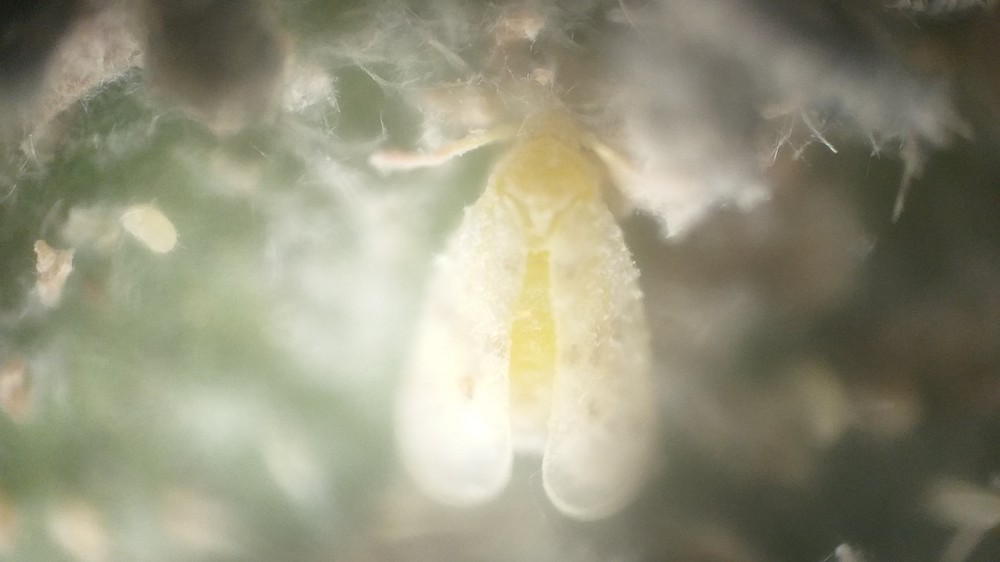Mosca Blanca: (355, 91, 732, 536)
